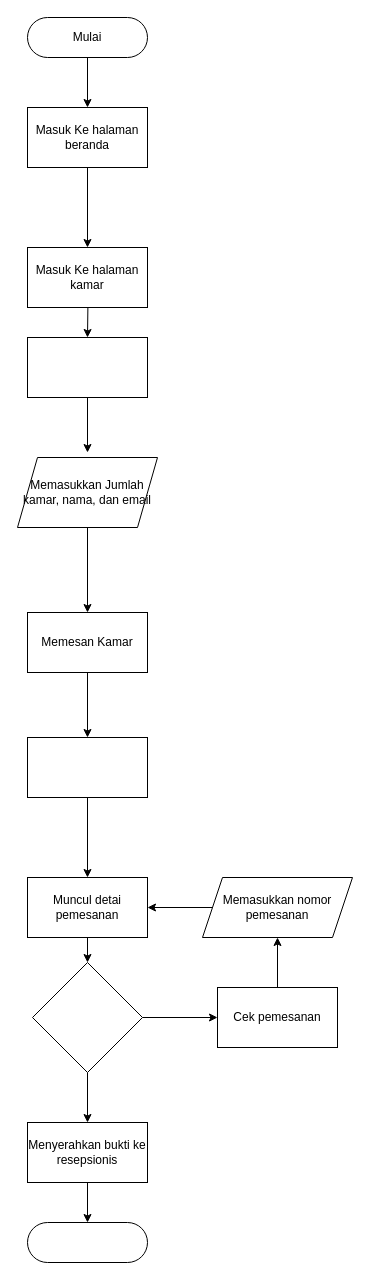
This 370x1280 diagram has some shape labels left out. Each missing label, with the box of its shape:
Kamar terpesan: (26, 736, 148, 798)
Memilih tipe Kamar: (26, 336, 148, 398)
Mencetak/ menyimpan bukti pemesanan: (32, 962, 142, 1072)
Selesai: (26, 1222, 148, 1262)
